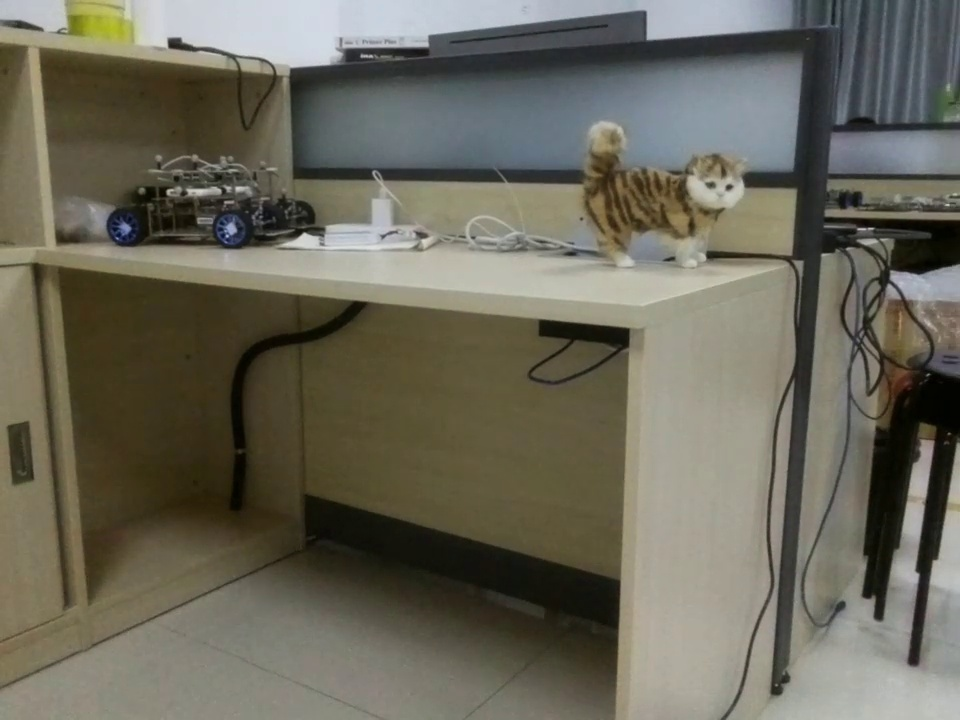cat: (563, 112, 757, 273)
